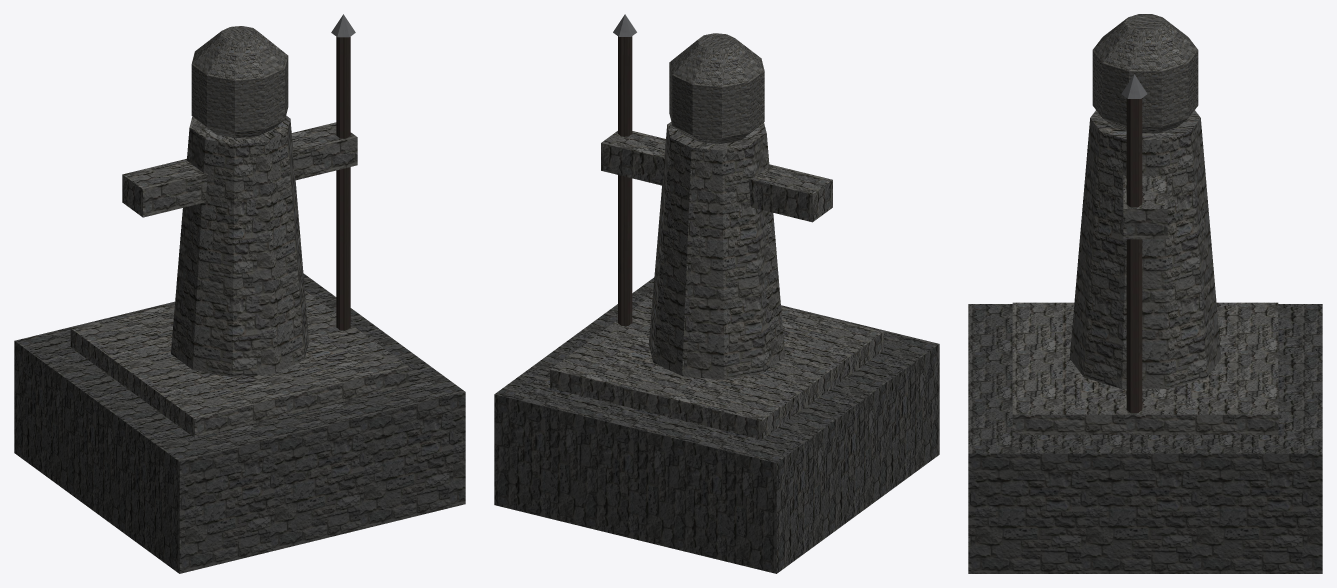
Rendered from statue_guard_01.glb.
3 views of the same model, side by side, from view 1: azimuth 30°, elevation 25°; view 2: azimuth 150°, elevation 25°; view 3: azimuth 270°, elevation 25° (orthographic). The views are drawn at different scales.
Visible parts, largest first — view 1: statue_guard_01; view 2: statue_guard_01; view 3: statue_guard_01.
Part boxes in pixels (x1=…): statue_guard_01: x1=14, y1=14, x2=465, y2=573; statue_guard_01: x1=494, y1=14, x2=939, y2=573; statue_guard_01: x1=968, y1=14, x2=1322, y2=573.
Bounding box in the file's own units: 3.2 × 4.75 × 3.2.
4 materials, 4 textured.
